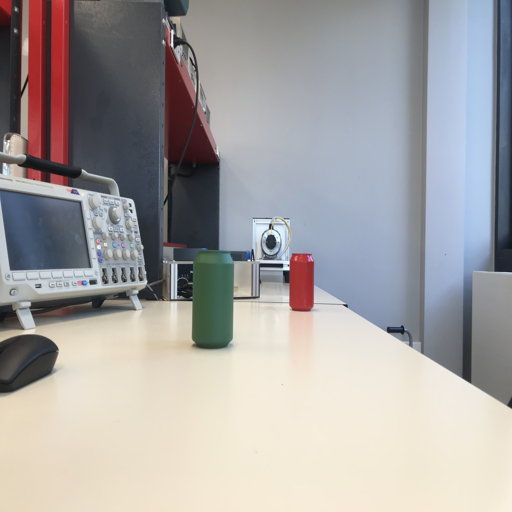Green_Can: (190, 248, 235, 348)
Red_Can: (288, 252, 314, 311)
